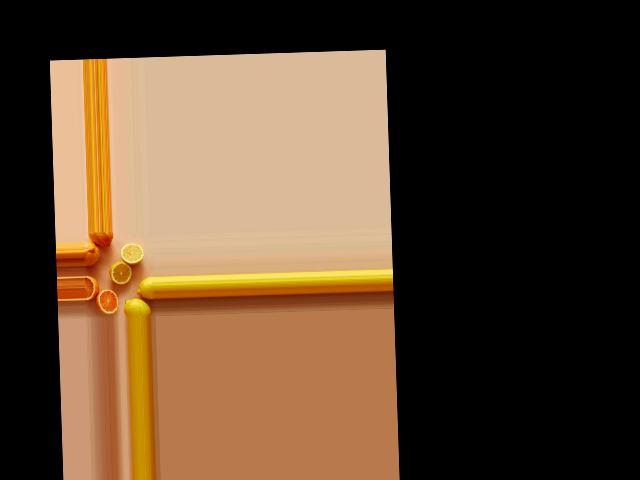lemon: (86, 231, 115, 251)
